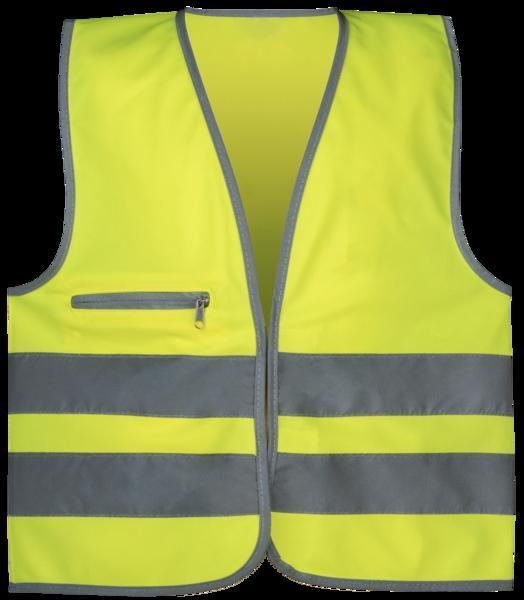vest: (2, 12, 518, 596)
